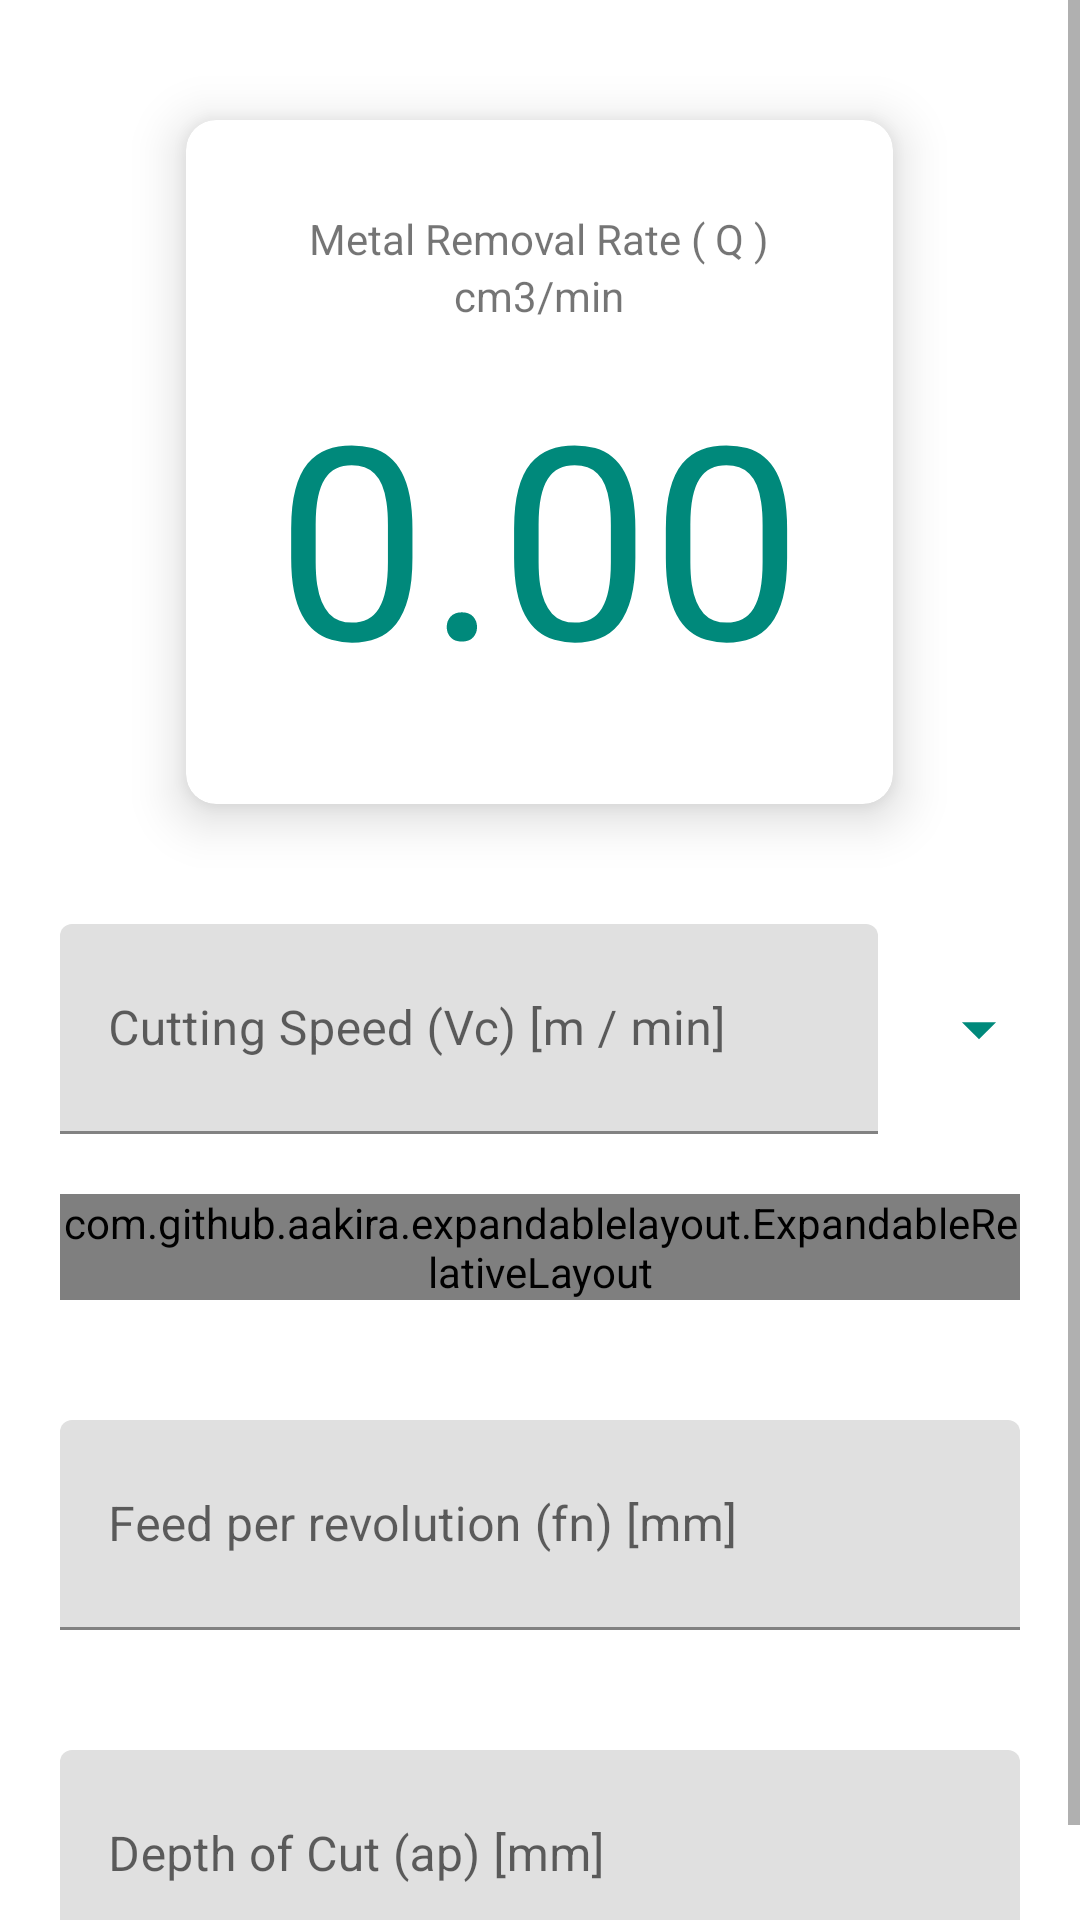

Named icons in this screenshot (1080px x 1920px) and their centers, (x,y):
arrow drop down: (979,1030)
